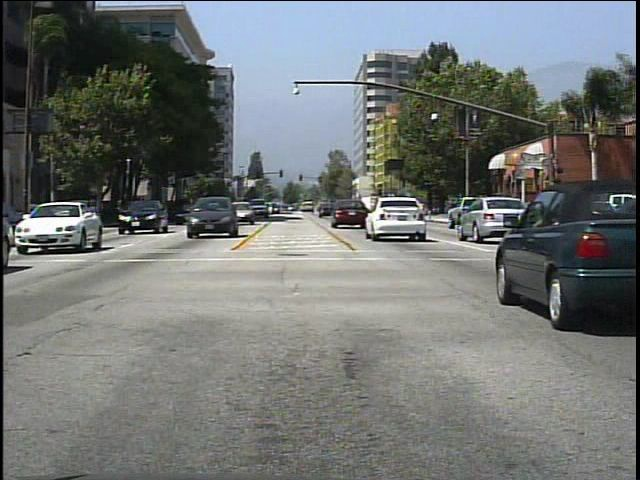person: (526, 194, 545, 229), (491, 189, 509, 224)
